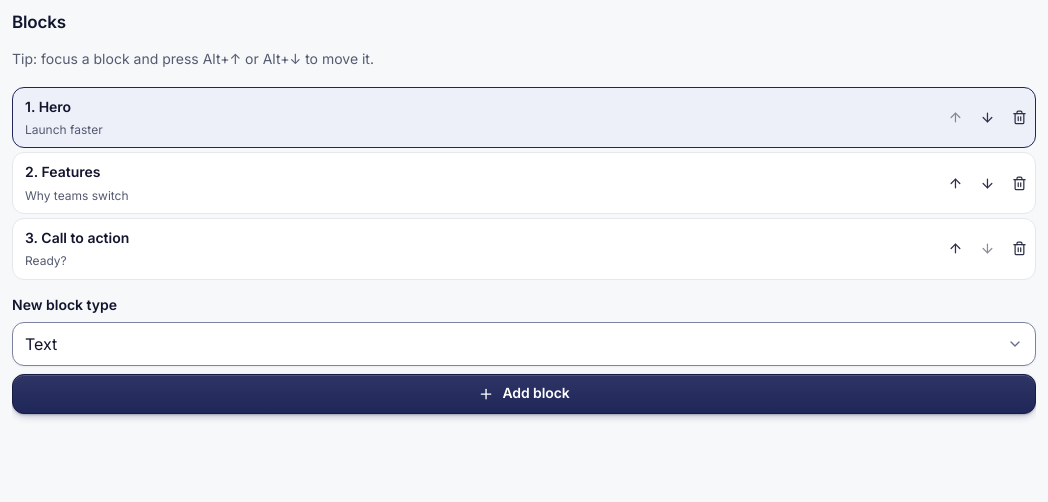
landing-page builder block list › adds a block of the chosen type after the selected block using only the keyboard
Select "FAQ" in the dropdown labelled "New block type" at [524, 344], box [12, 322, 1036, 366]
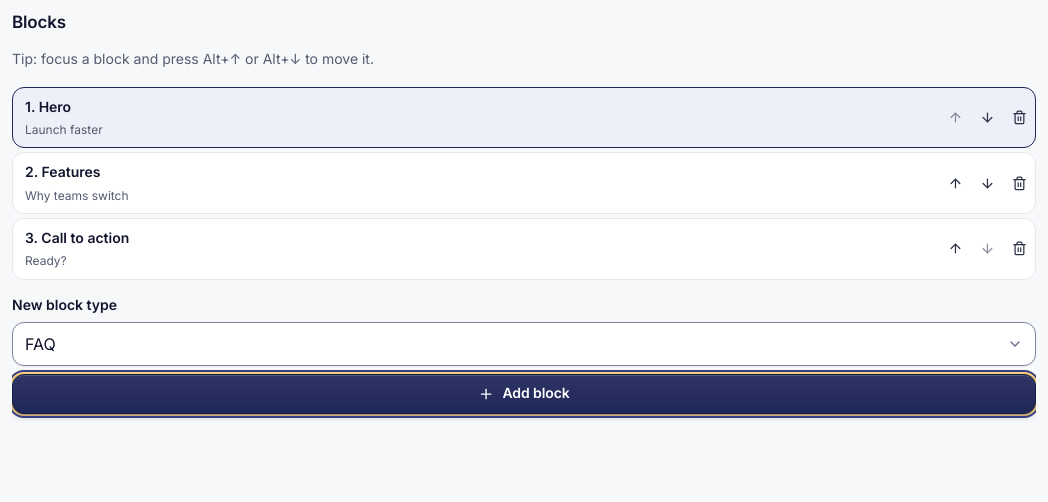
Press Enter
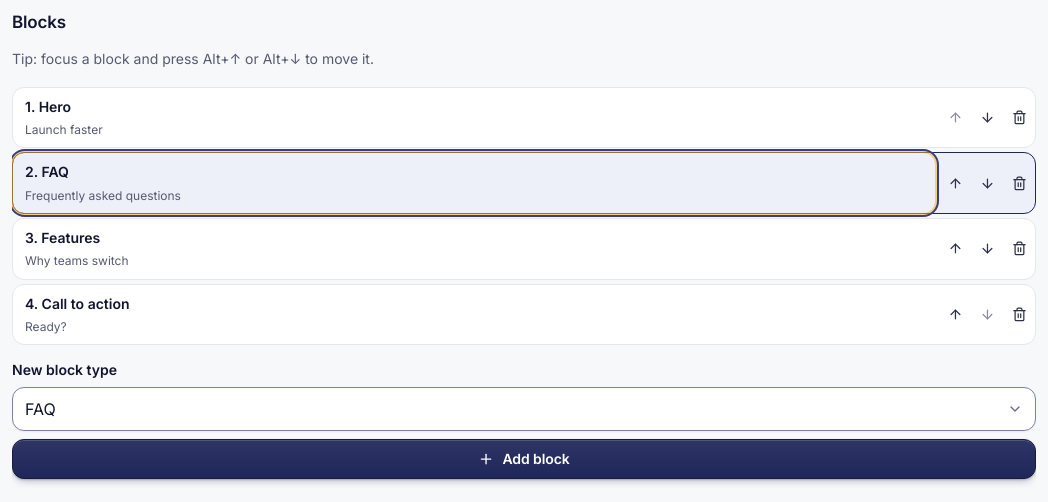
Now the button "2. FAQ Frequently asked questions" is shown, box [13, 153, 935, 213]
